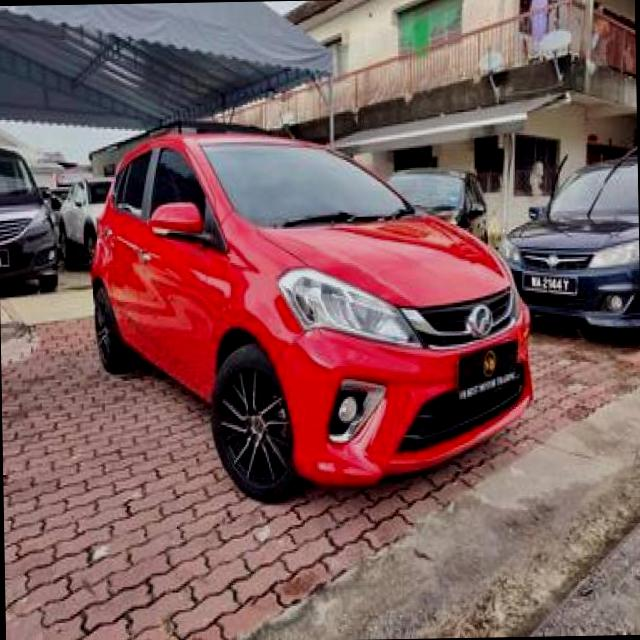PeroduaMyvi: (84, 116, 536, 504)
